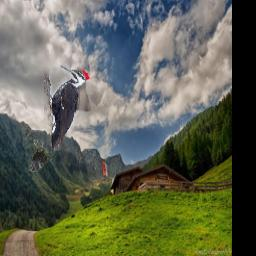Crow: (27, 140, 48, 173)
Woodpecker: (43, 66, 90, 152)
